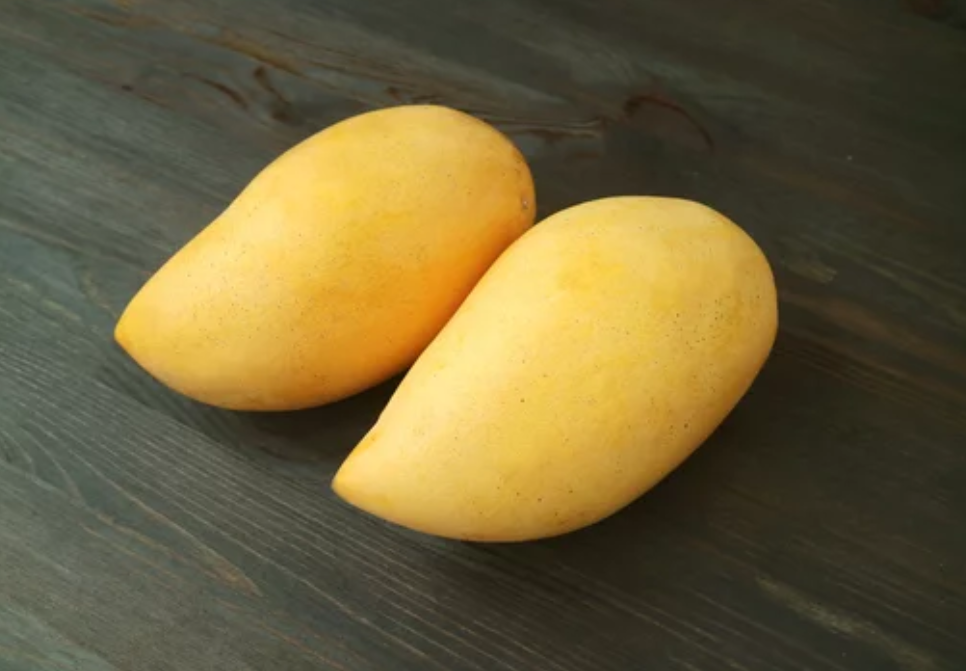mango: (330, 192, 781, 545), (115, 103, 538, 416)
